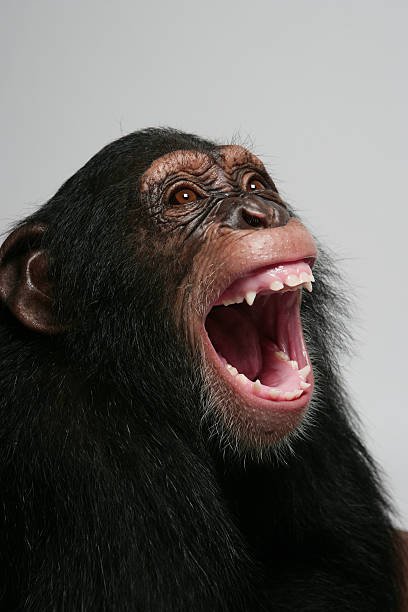chimpanzee: (1, 117, 368, 518)
